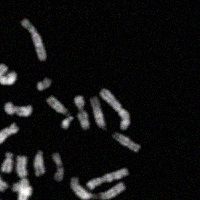chromosome: (70, 178, 126, 200), (101, 89, 131, 129), (22, 18, 46, 59), (87, 168, 129, 189), (113, 132, 141, 153), (74, 96, 89, 130), (89, 96, 104, 127), (0, 123, 18, 148), (4, 103, 31, 117), (46, 97, 67, 114), (0, 63, 16, 84), (52, 152, 63, 181), (34, 150, 45, 175), (16, 178, 27, 200), (2, 152, 14, 172), (12, 182, 32, 193), (17, 155, 27, 176), (0, 166, 7, 191), (38, 78, 50, 91), (61, 115, 73, 128), (0, 189, 3, 200)
